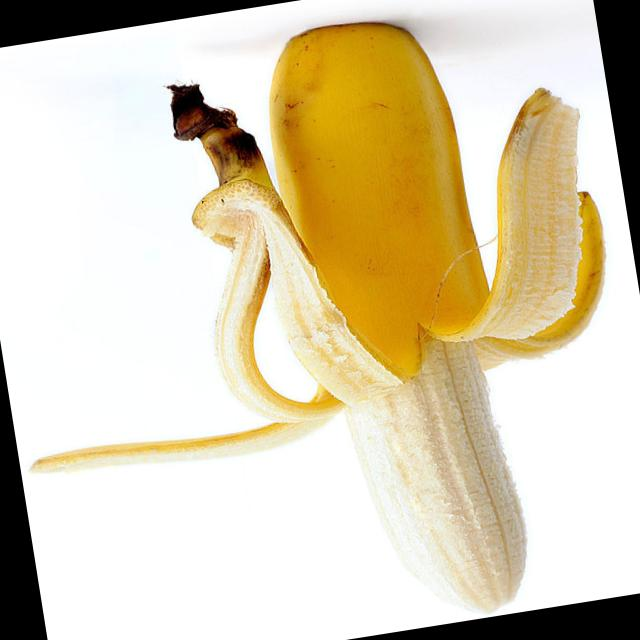banana_peel: (13, 0, 632, 633)
